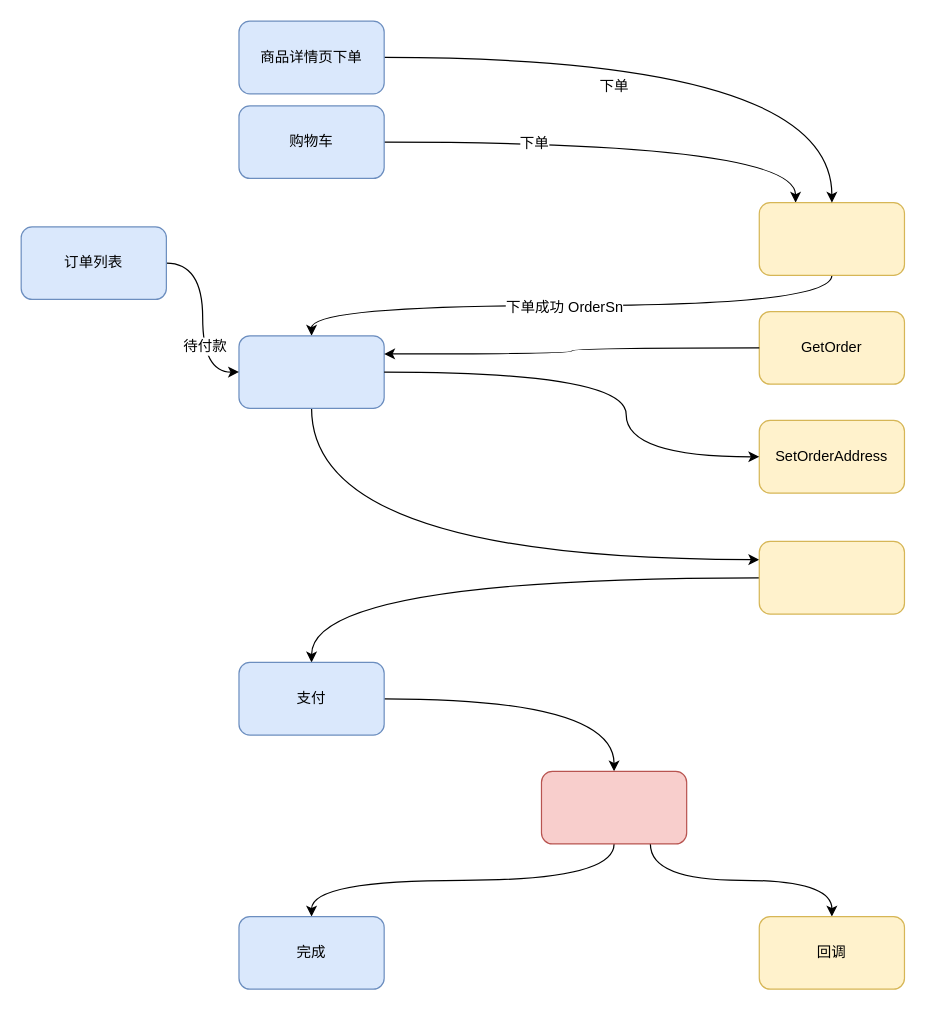
This 926x1010 diagram has some shape labels left out. Each missing label, with the centre of its shape:
CreatOrder: the point at 831,238
SubmitOrder: the point at 831,577
待付款订单 选择地址: the point at 311,371
执行支付: the point at 613,807
